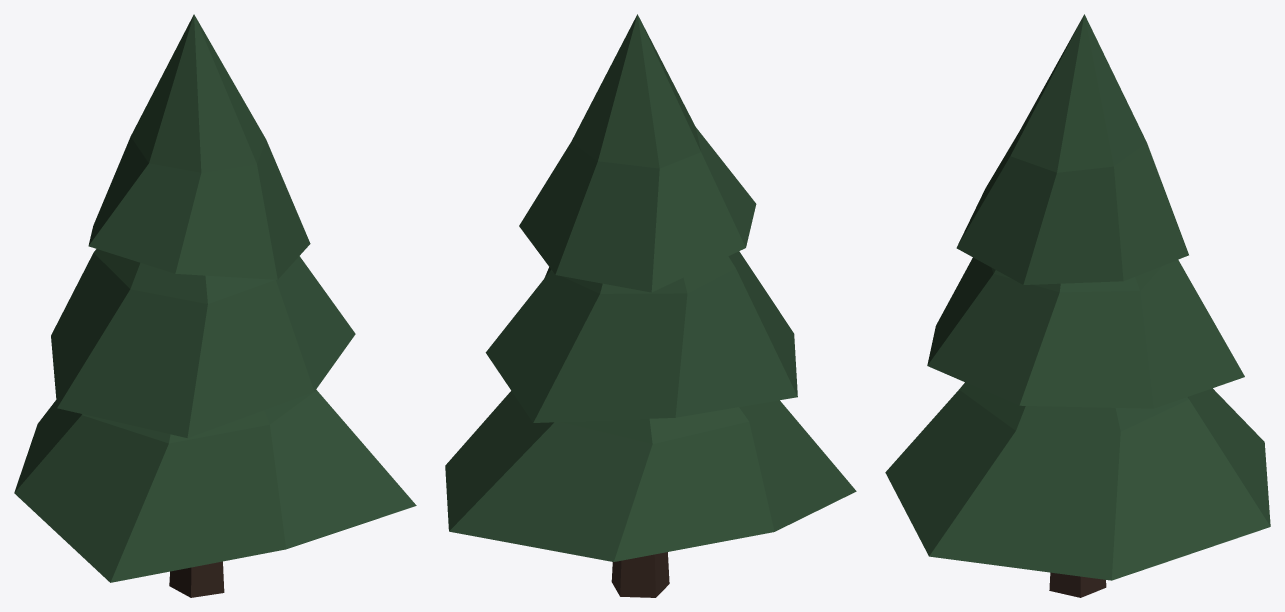
Rendered from deco_pine_s.glb.
3 renders of one model, left to right at view 1: azimuth 30°, elevation 25°; view 2: azimuth 150°, elevation 25°; view 3: azimuth 270°, elevation 25°, orthographic.
Visible parts, largest first — view 1: deco_pine_s_mesh; view 2: deco_pine_s_mesh; view 3: deco_pine_s_mesh.
Part boxes in pixels (x1=…): deco_pine_s_mesh: x1=14, y1=14, x2=416, y2=597; deco_pine_s_mesh: x1=445, y1=14, x2=856, y2=597; deco_pine_s_mesh: x1=885, y1=14, x2=1270, y2=597.
Size of the model in its own units: 0.1535 by 0.25 by 0.153.
